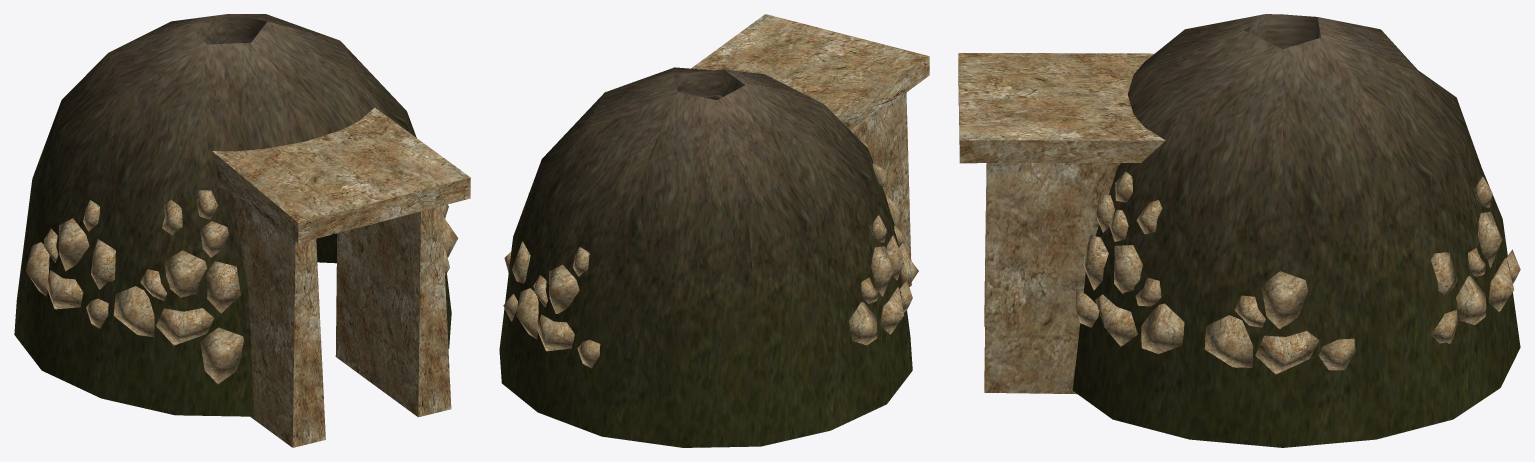
File: thm_dant_small_mudhut_l2.fbx
The picture shows the model from 3 angles, left to right: view 1: azimuth 30°, elevation 25°; view 2: azimuth 150°, elevation 25°; view 3: azimuth 270°, elevation 25°; orthographic projection. The views are drawn at different scales.
Parts seen in each view (by area): view 1: mesh_node; view 2: mesh_node; view 3: mesh_node.
Boxes of the visible parts, x1,y1,x2,y2 form: mesh_node: (14,14,470,447); mesh_node: (499,14,929,447); mesh_node: (958,14,1520,447).
Size of the model in its own units: 9.35 by 6.8 by 10.81.
